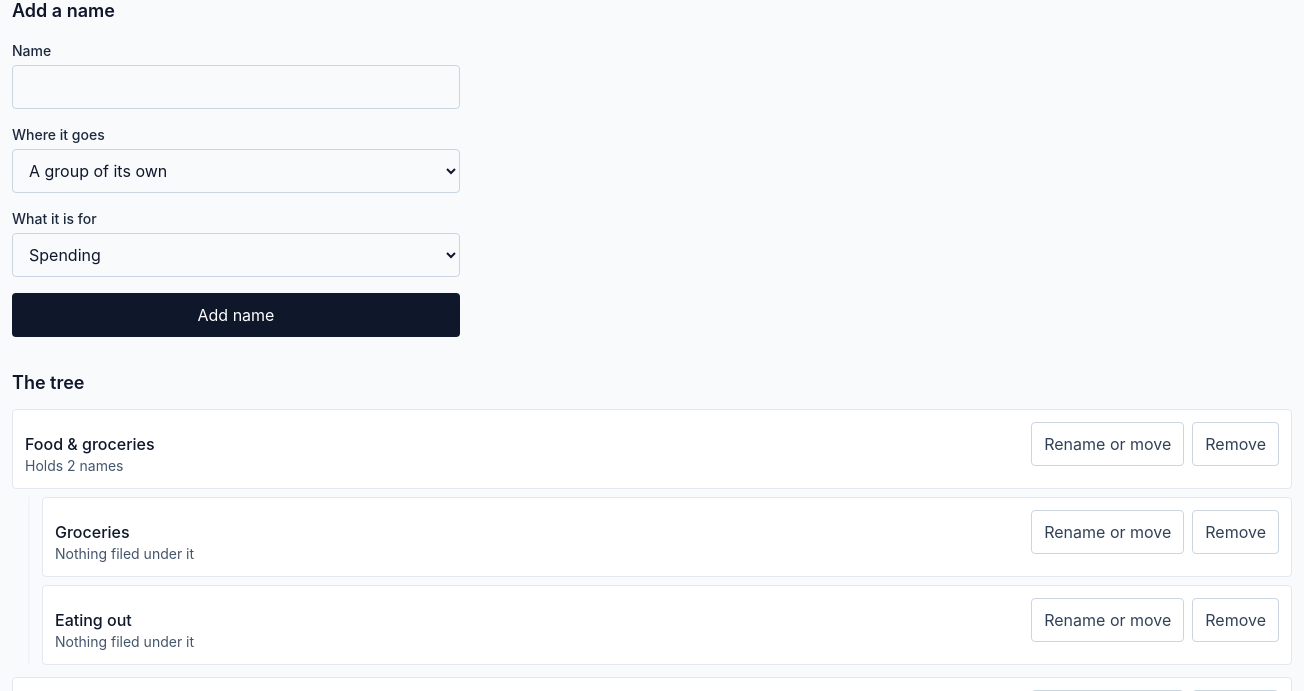
Scenario: CategoriesPage › shows what the server said when a removal is refused
Expected: the heading "The tree" is shown, [12, 372, 84, 393]
Click the button "Remove" in the row of "Food & groceries". click: [1236, 444]
box: [1192, 422, 1279, 466]
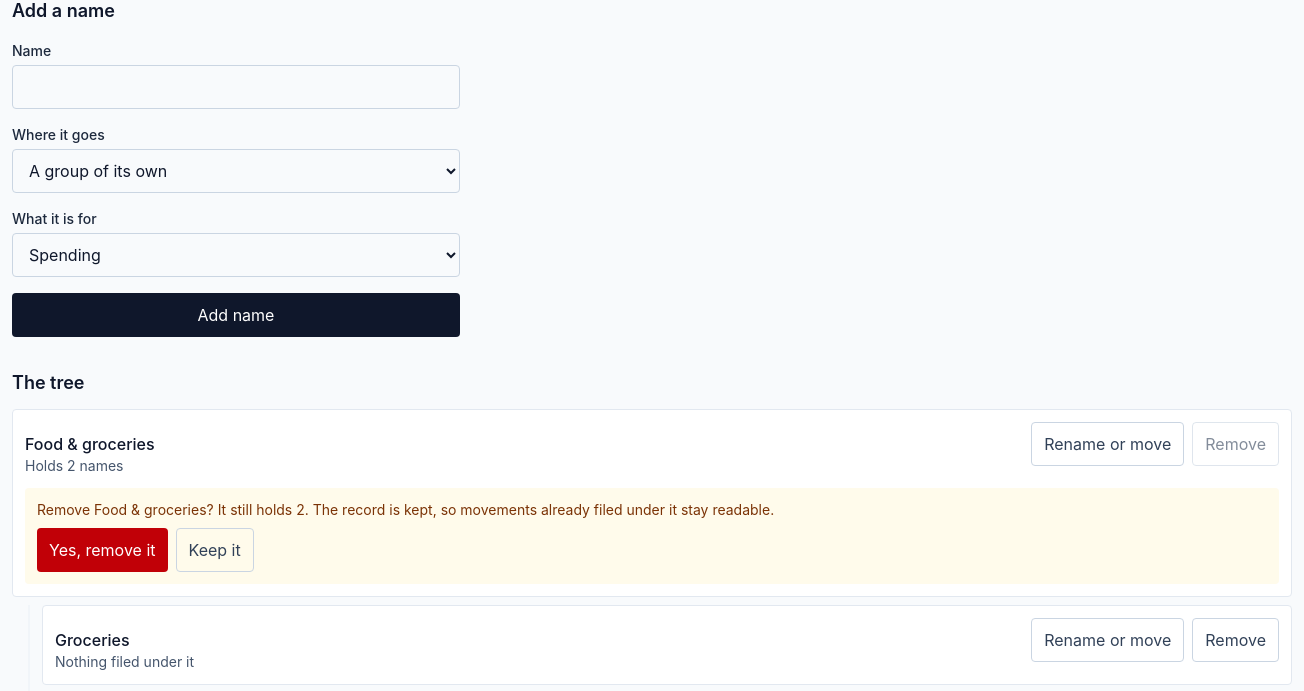
Click the button "Yes, remove it". click: [102, 550]
box: [37, 528, 168, 572]
(page scrolled)
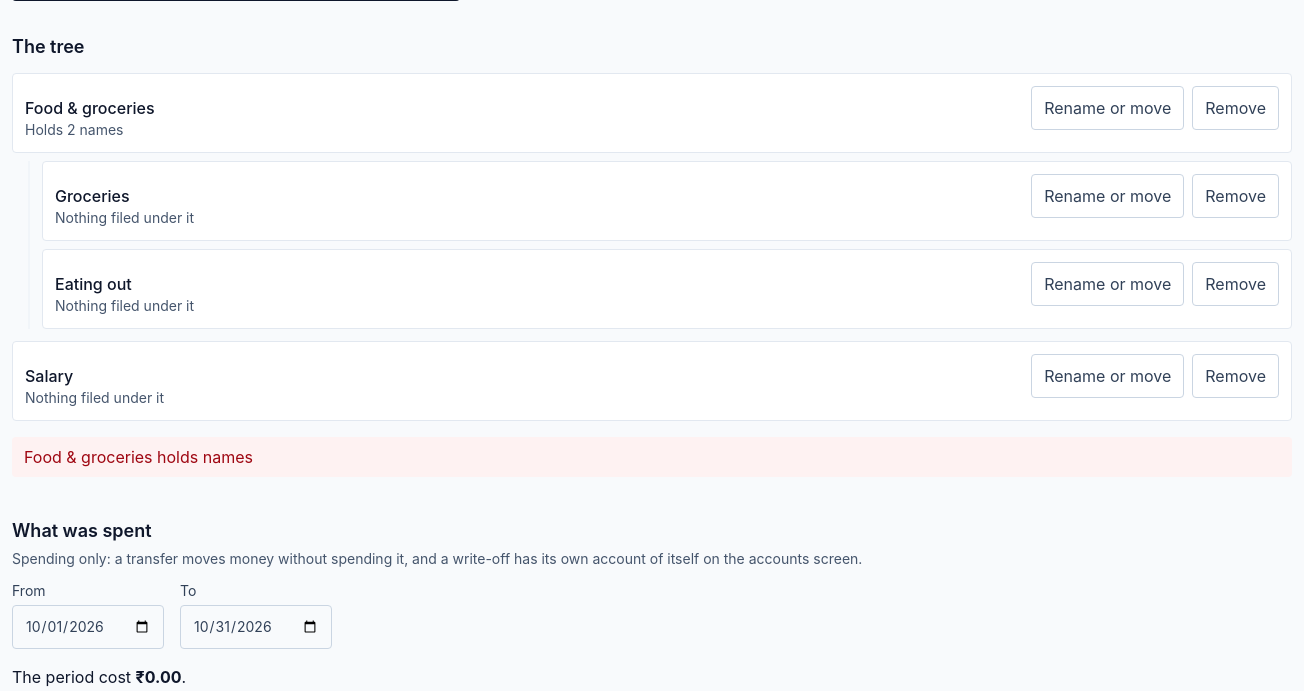
Expected: the message reads "Food & groceries holds names", [24, 447, 253, 467]
